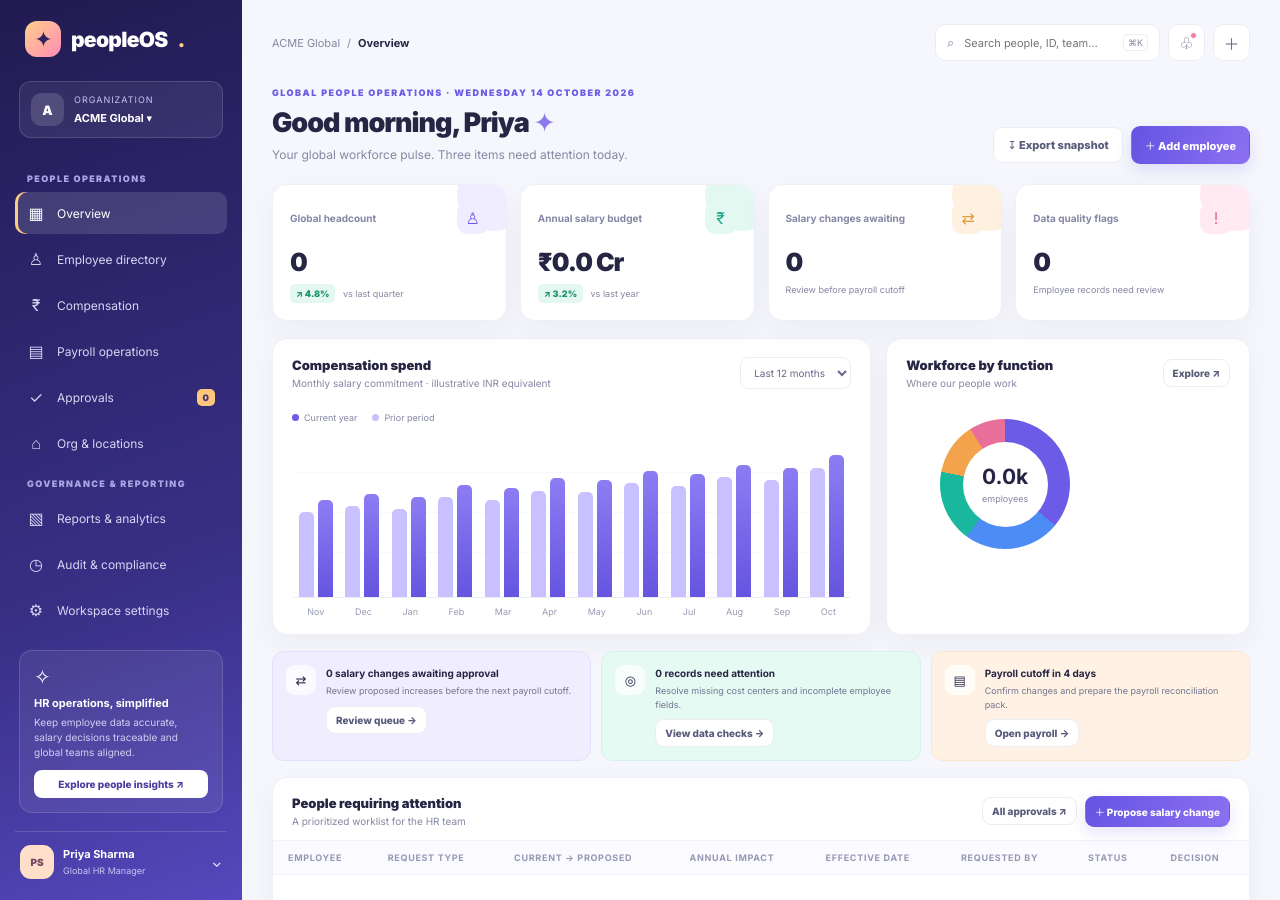
Test: PeopleOS HR dashboard › supports compensation decisions from the approval queue
Click the button "✓ Approvals 0".
click(121, 397)  # box [15, 376, 227, 418]
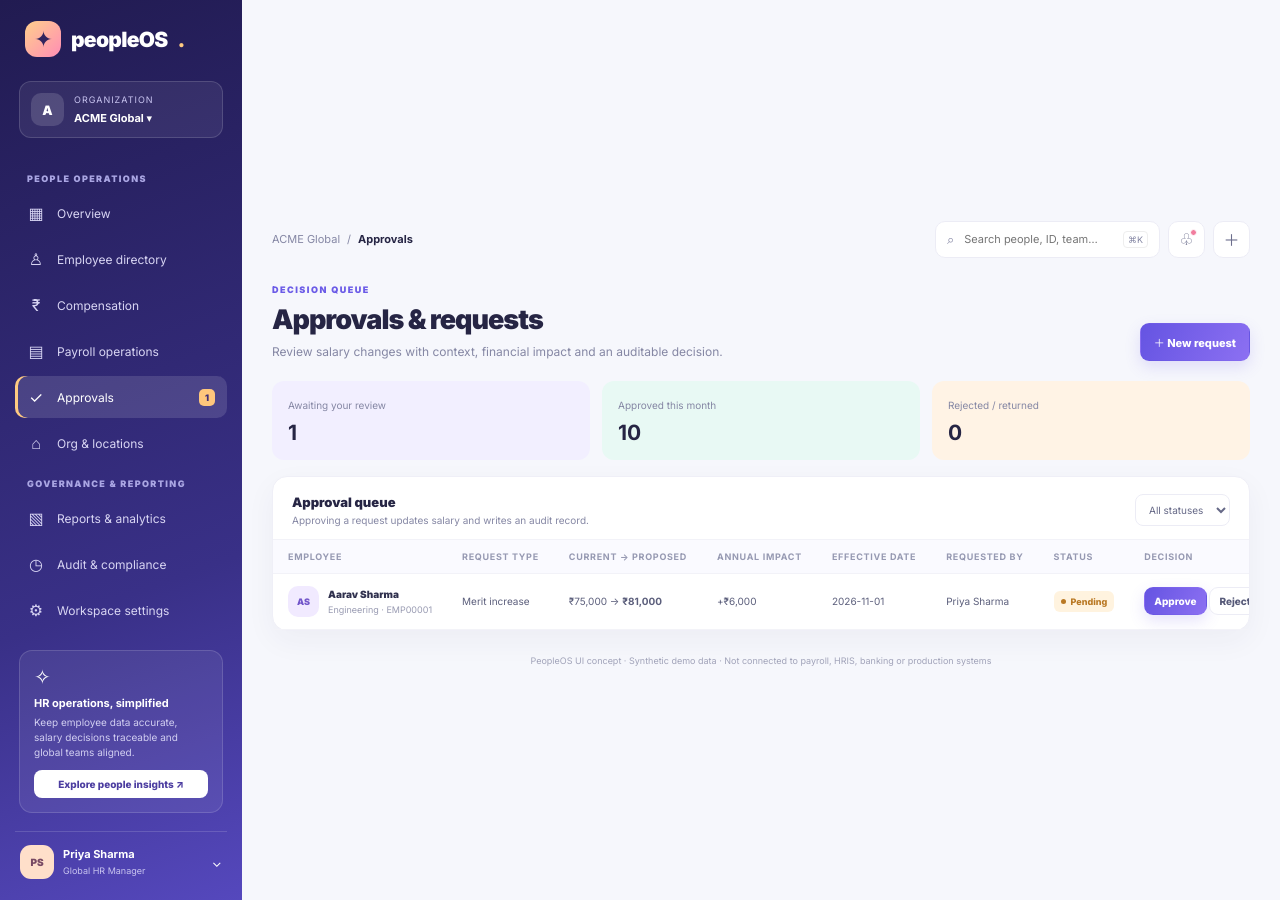
Expected: the text "Aarav Sharma" is shown, [328, 588, 399, 600]
Click the button "Approve".
click(1175, 601)  # box [1144, 587, 1207, 615]
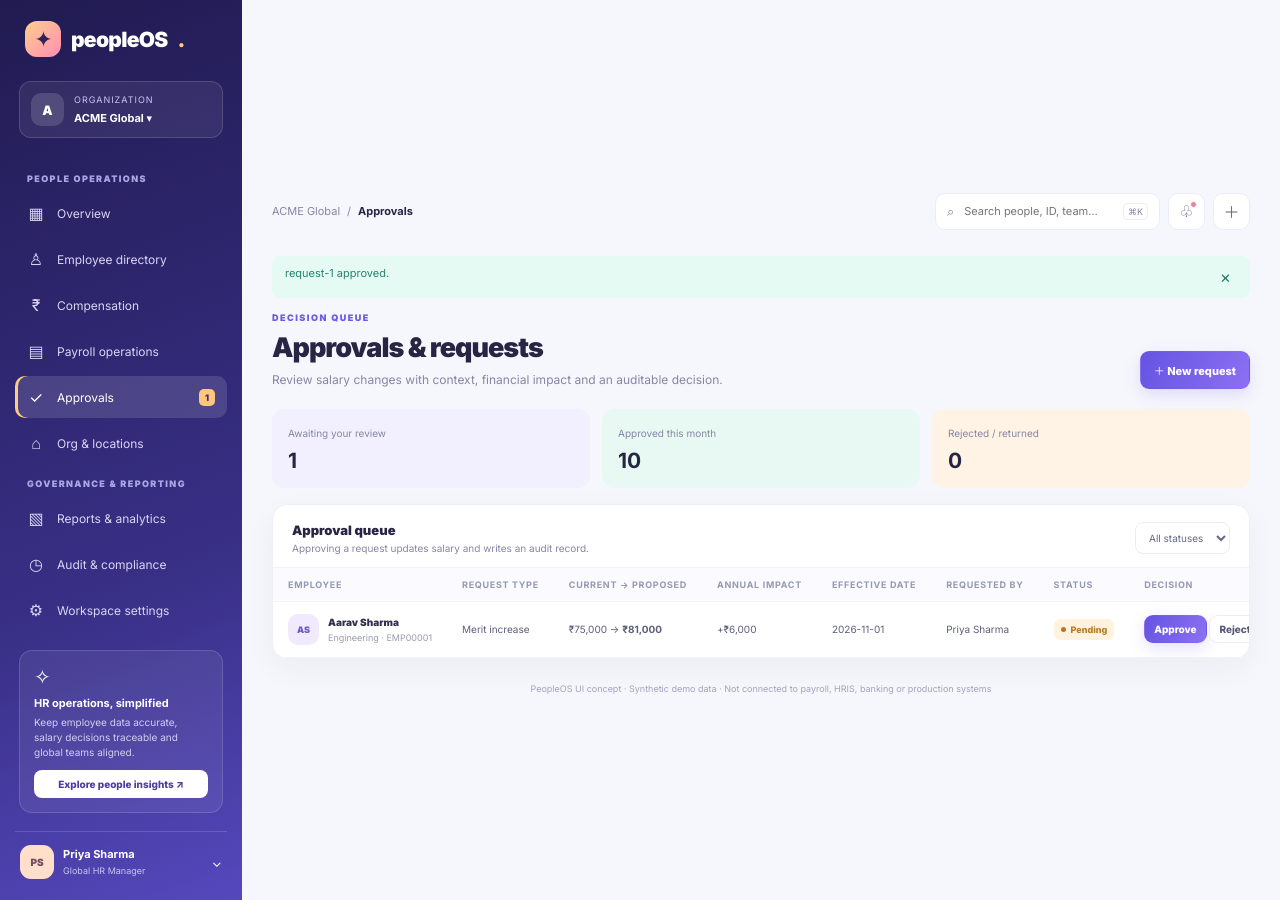
Expected: the message shows "request-1 approved.", [285, 266, 389, 280]
